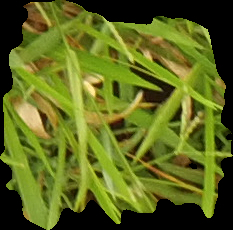grass: (1, 1, 232, 229)
